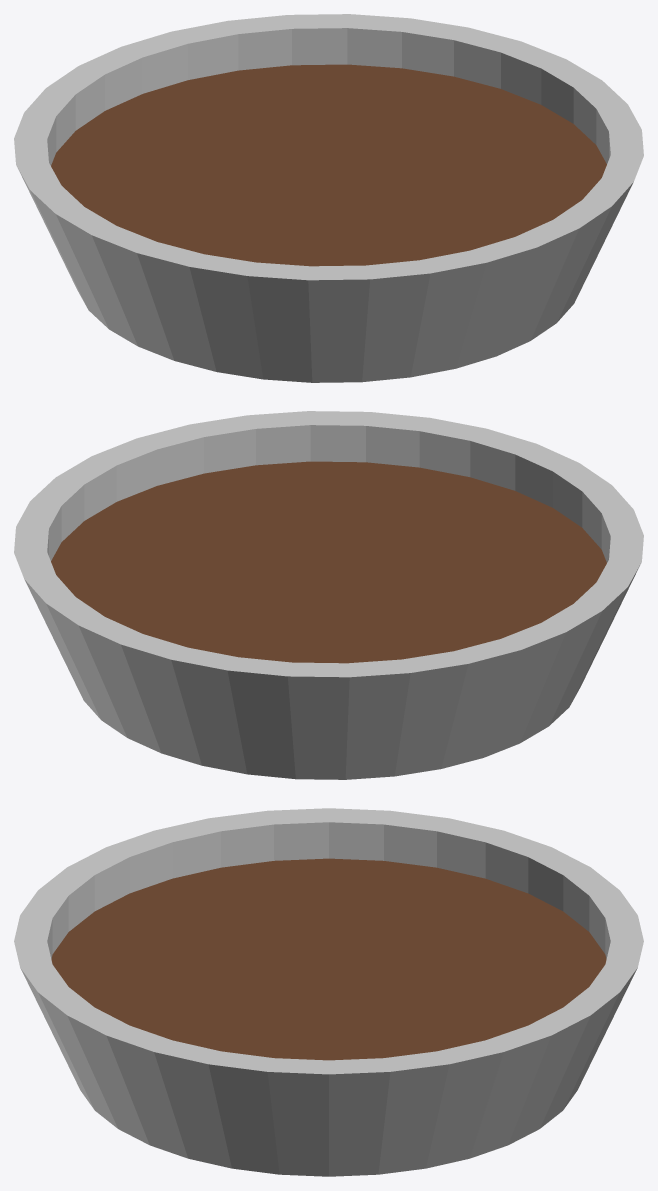
Rendered from Maceta circular chica_UV.fbx.
3 renders of one model, top to bottom at view 1: azimuth 30°, elevation 25°; view 2: azimuth 150°, elevation 25°; view 3: azimuth 270°, elevation 25°, orthographic.
Parts seen in each view (by area): view 1: Circle; view 2: Circle; view 3: Circle.
Part boxes in pixels (x1,y1,x2,y2): Circle: (14,14,643,382); Circle: (14,411,643,779); Circle: (14,808,643,1176).
Size of the model in its own units: 98.78 by 22.21 by 98.78.
